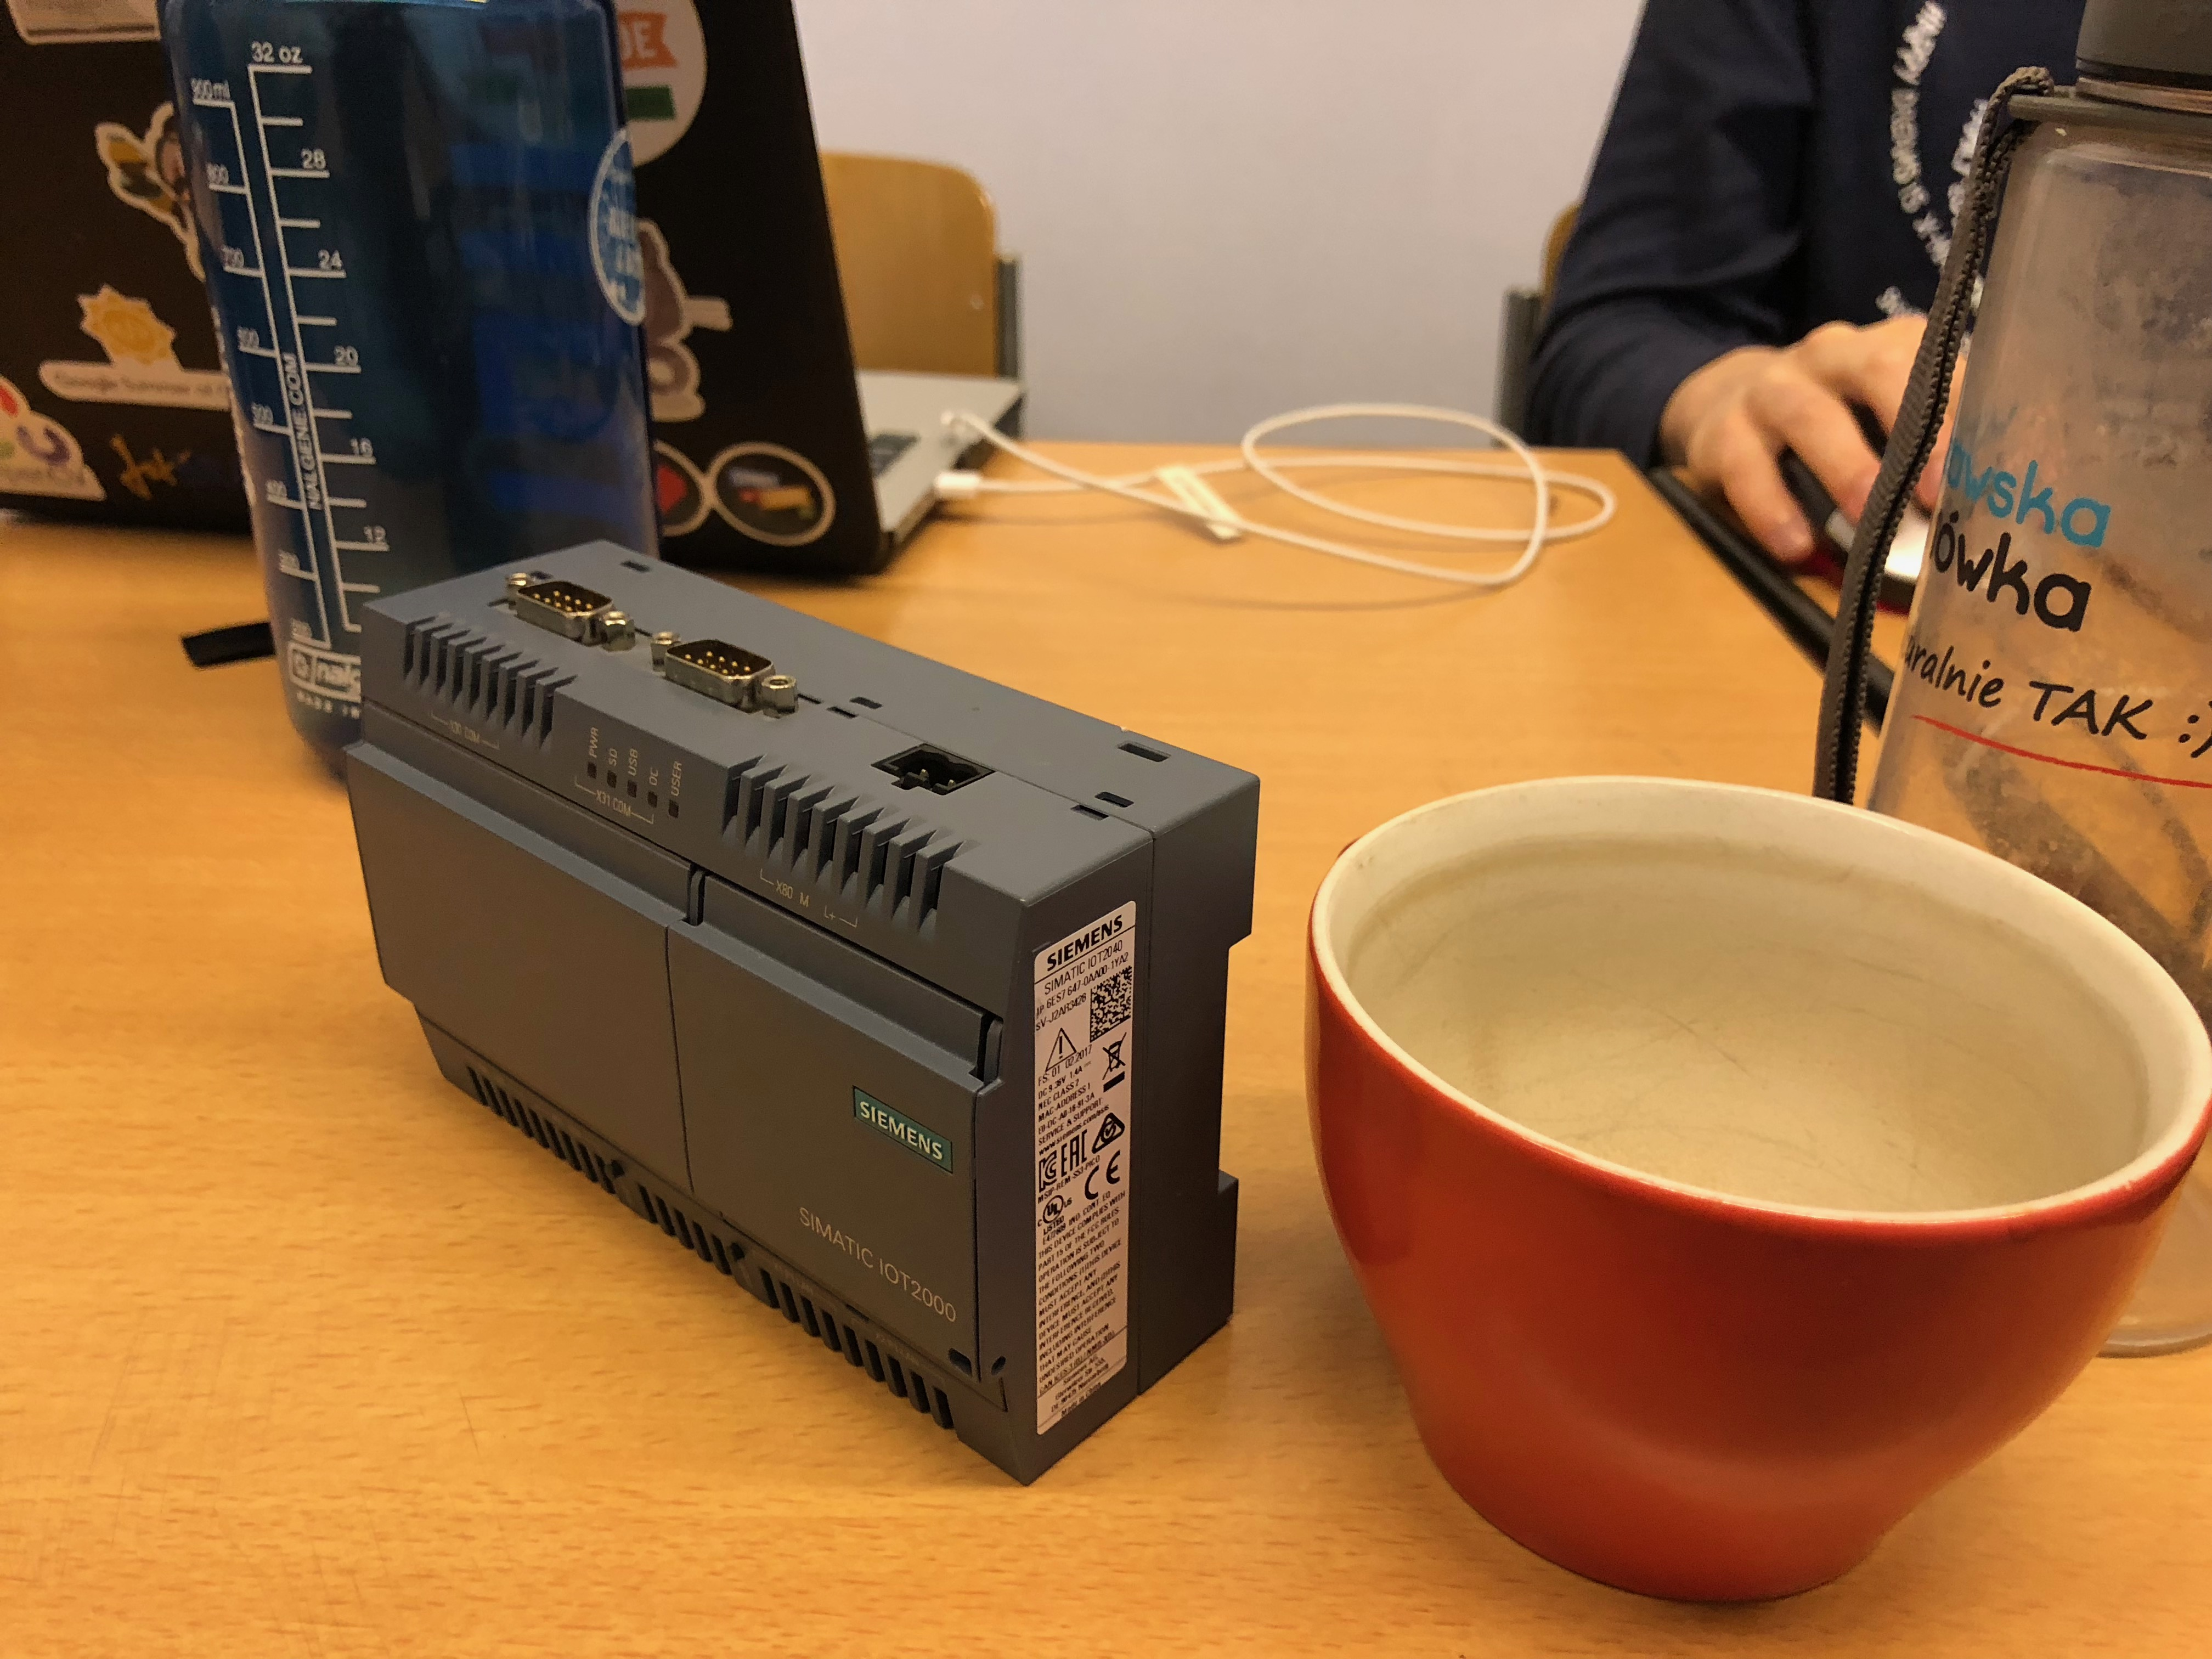device: (340, 537, 1263, 1490)
